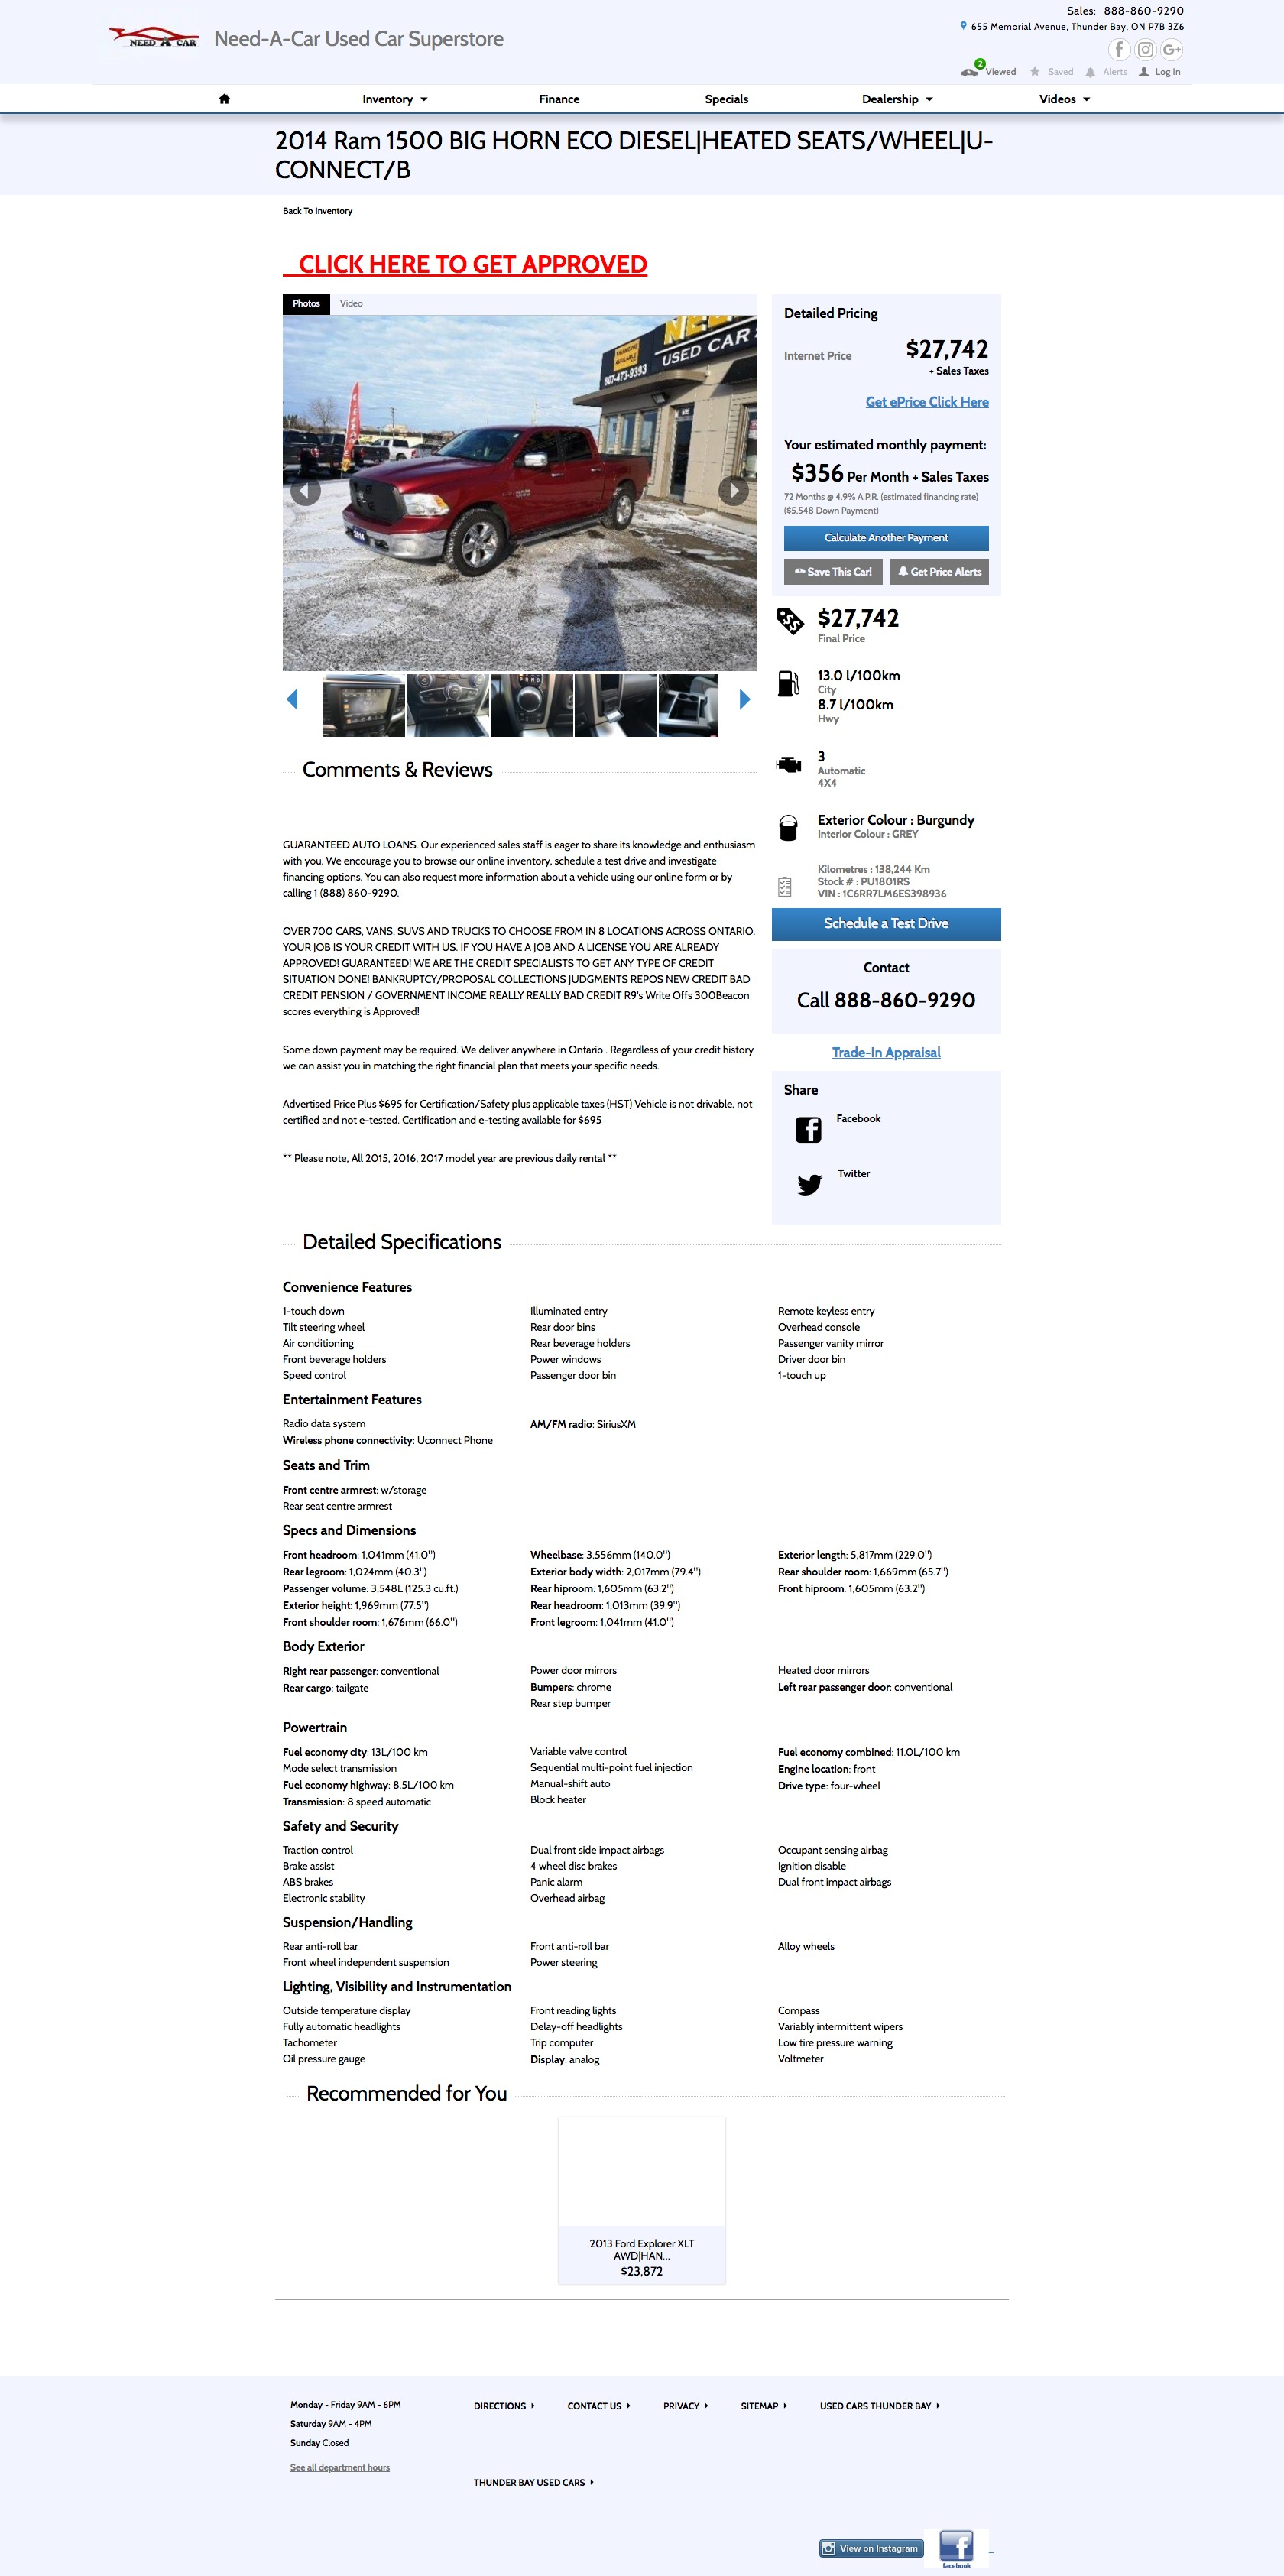car: (739, 688, 752, 711)
